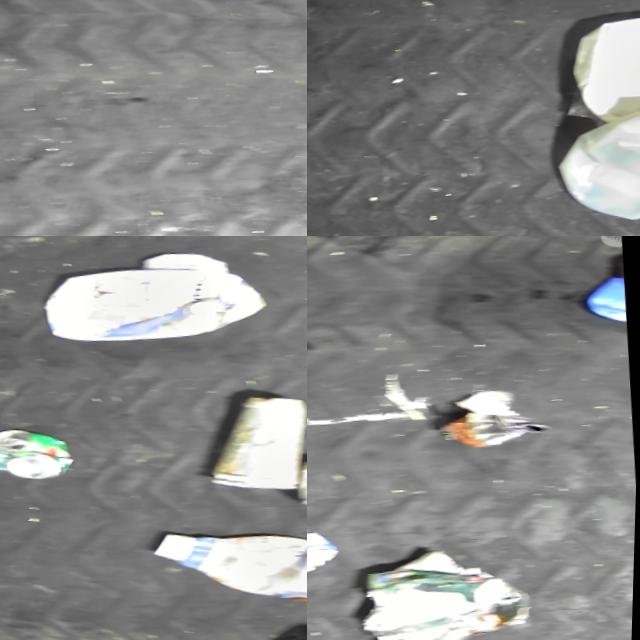can: (438, 375, 554, 447), (0, 418, 80, 489)
milk_jug: (37, 236, 272, 350), (561, 89, 640, 219), (564, 0, 640, 121)
